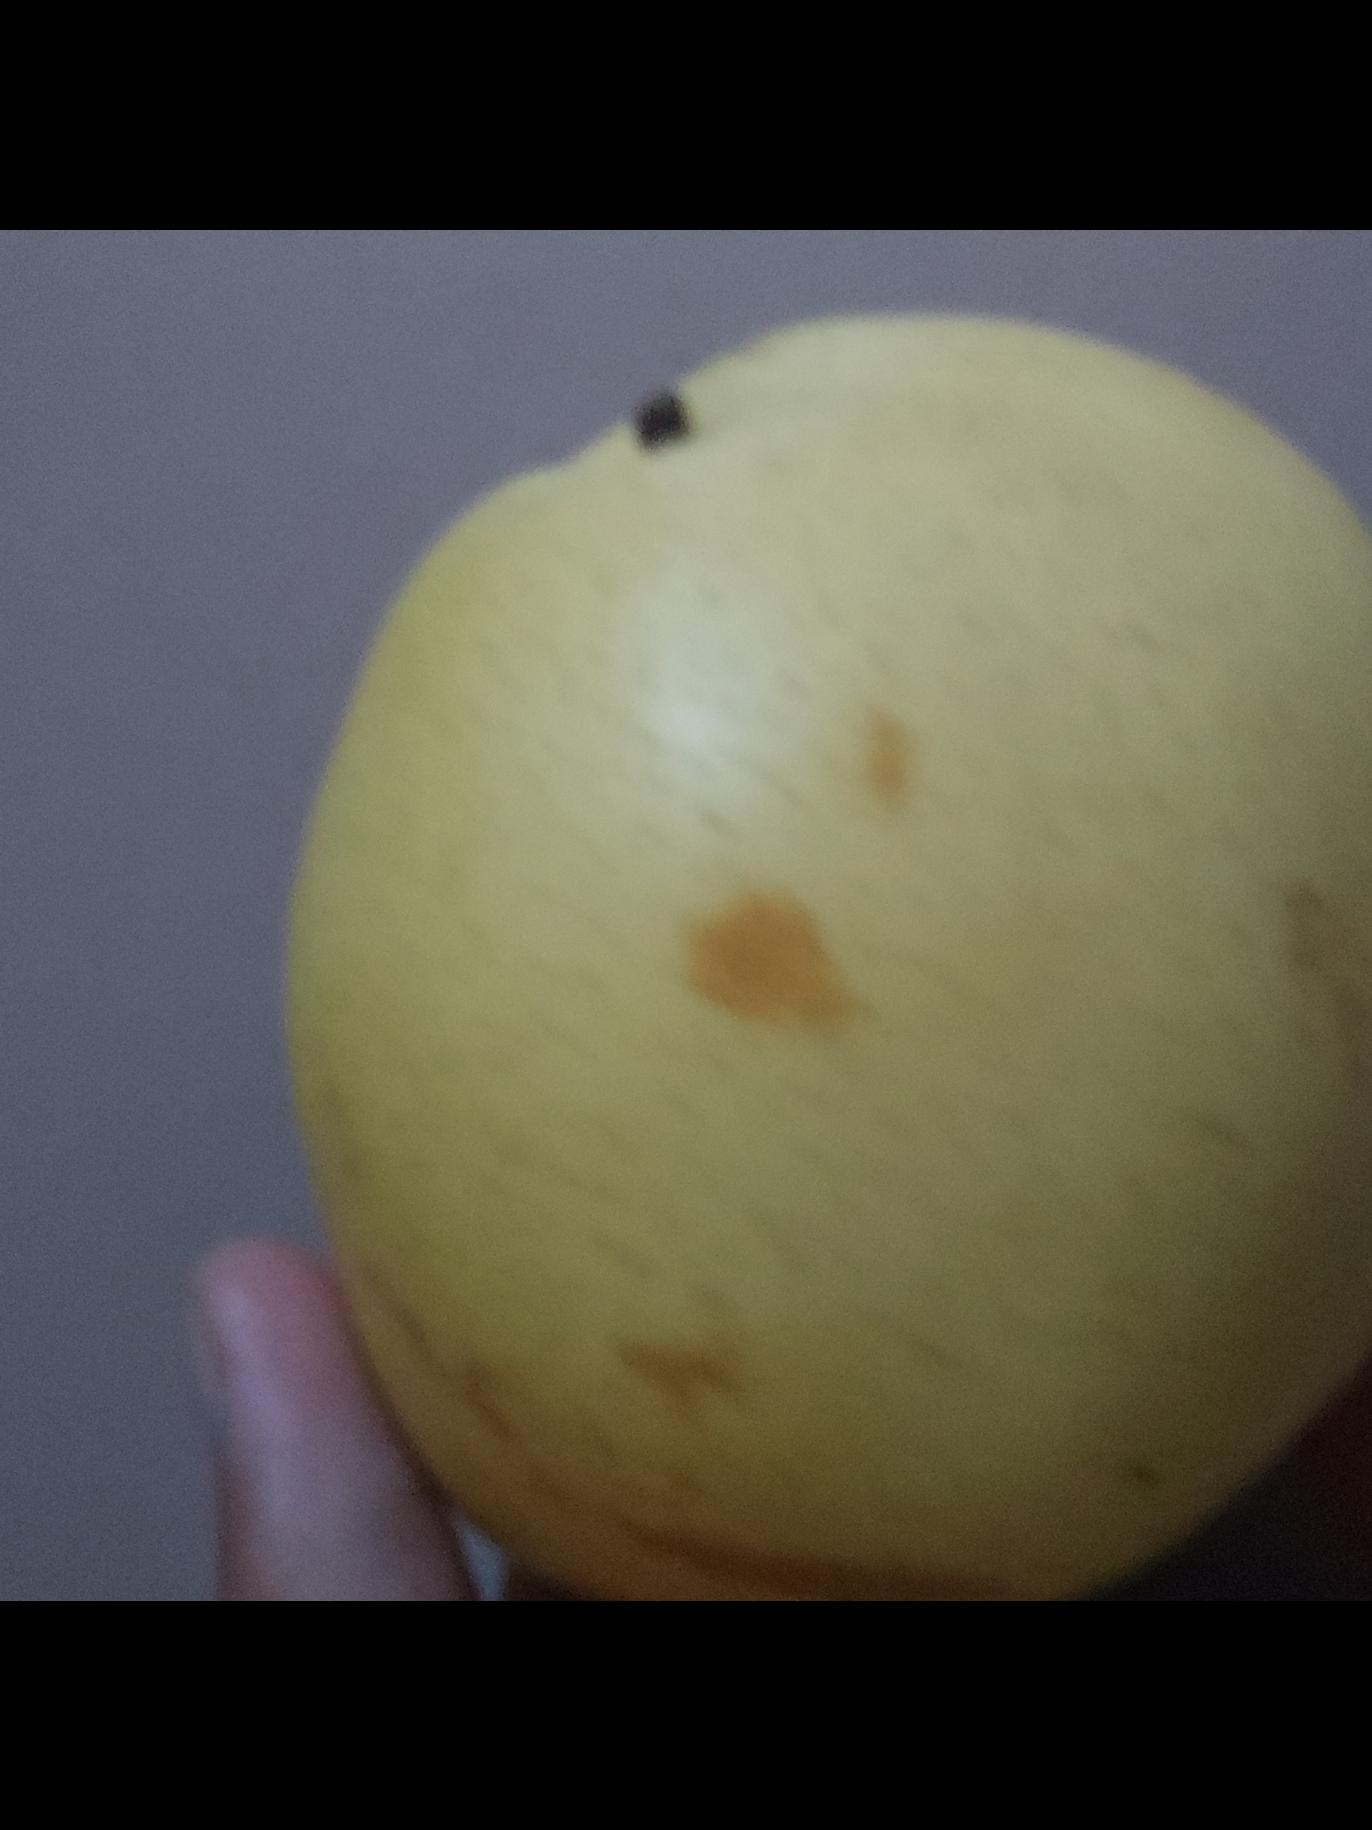Good Pear: (270, 312, 1372, 1601)
